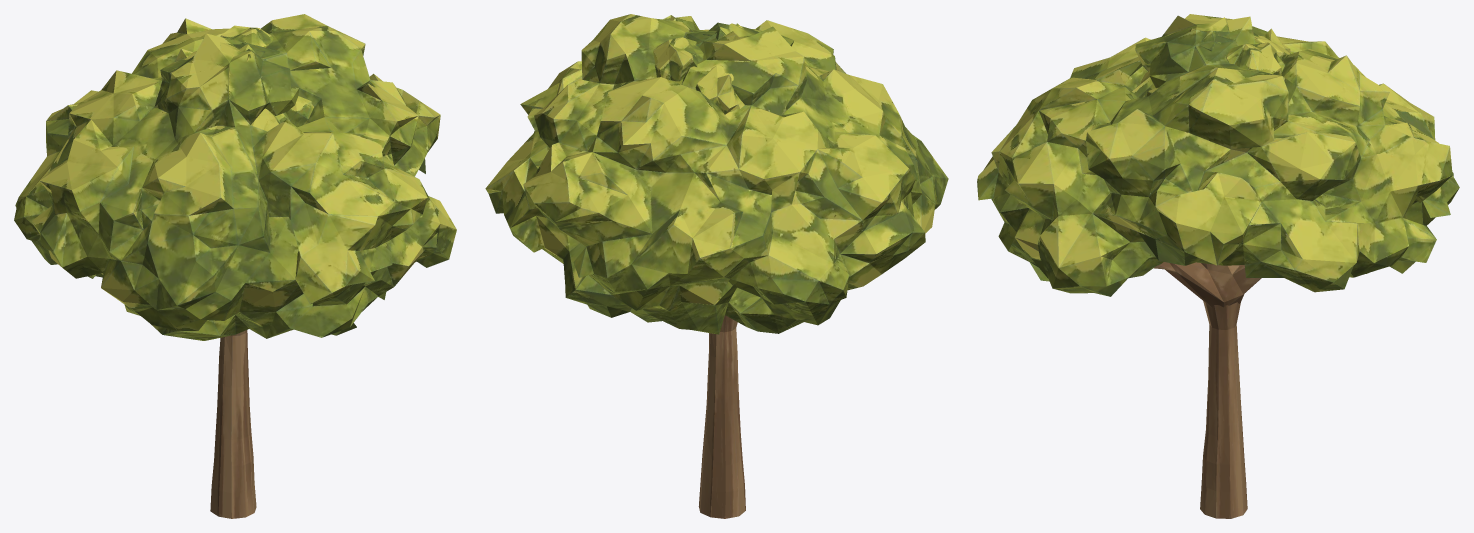
Rendered from tree_round_a.glb.
3 renders of one model, left to right at view 1: azimuth 30°, elevation 25°; view 2: azimuth 150°, elevation 25°; view 3: azimuth 270°, elevation 25°, orthographic. The views are drawn at different scales.
Parts seen in each view (by area): view 1: body; view 2: body; view 3: body.
Part boxes in pixels (box(x1,y1,x2,y2)): body: box(14, 14, 456, 518); body: box(485, 14, 948, 518); body: box(977, 14, 1459, 518).
Size of the model in its own units: 4.69 by 5.51 by 4.97.
Materials: 2 (2 with a texture image).
